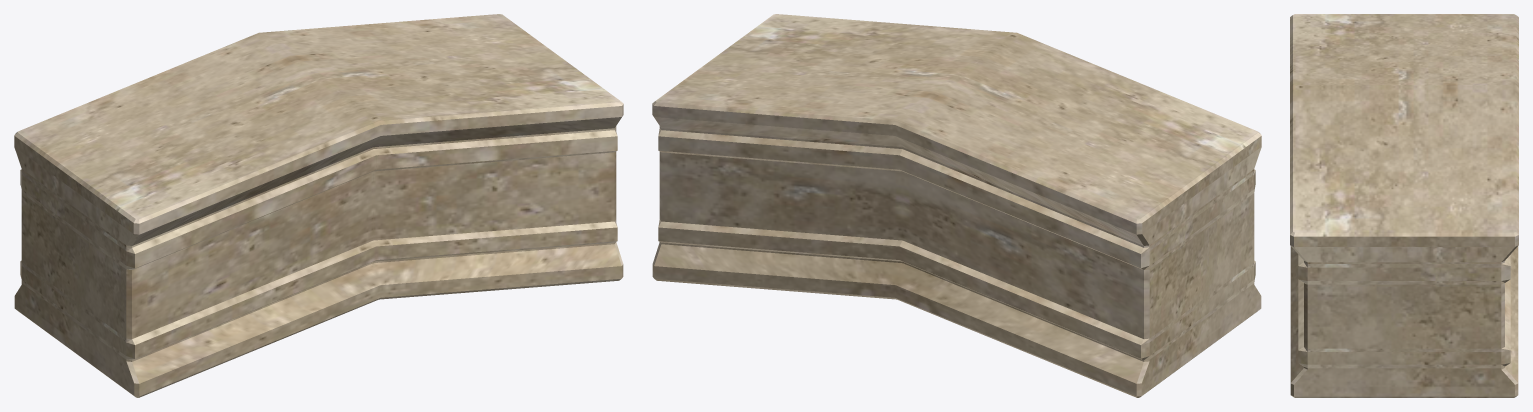
File: roof_face_top_middle.FBX
3 views of the same model, side by side, from view 1: azimuth 30°, elevation 25°; view 2: azimuth 150°, elevation 25°; view 3: azimuth 270°, elevation 25° (orthographic). The views are drawn at different scales.
Visible parts, largest first — view 1: Object182; view 2: Object182; view 3: Object182.
Part boxes in pixels (left/top/right/bottom): Object182: left=14, top=14, right=623, bottom=397; Object182: left=652, top=14, right=1261, bottom=397; Object182: left=1290, top=14, right=1518, bottom=397.
Size of the model in its own units: 148 by 63.2 by 64.79.
